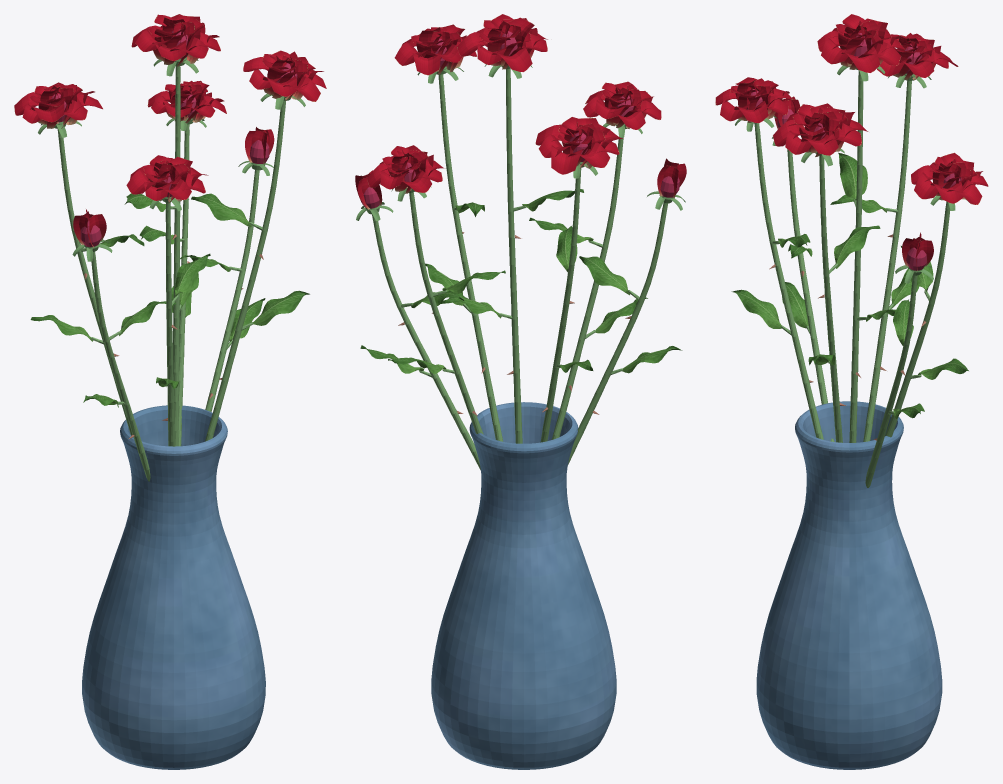
The model's file is rose2.glb.
3 views of the same model, side by side, from view 1: azimuth 30°, elevation 25°; view 2: azimuth 150°, elevation 25°; view 3: azimuth 270°, elevation 25° (orthographic).
Visible parts, largest first — view 1: Vase, Stem3, Stem1, Stem7, Stem4, Stem6, Stem5, Stem2, Leaf5, Leaf6, Leaf8; view 2: Vase, Stem1, Stem3, Stem4, Stem2, Stem6, Stem7, Stem5, Leaf12, Rose2Out0; view 3: Vase, Stem2, Stem1, Stem4, Stem3, Stem5, Stem6, Stem7, Leaf2, Leaf7, Leaf6, Leaf11 (+6 smaller).
Part boxes in pixels (left/top/right/bottom): Vase: left=82, top=405, right=265, bottom=769; Stem3: left=205, top=100, right=285, bottom=441; Stem1: left=173, top=66, right=180, bottom=446; Stem7: left=205, top=170, right=259, bottom=411; Stem4: left=165, top=202, right=174, bottom=446; Stem6: left=91, top=251, right=150, bottom=481; Stem5: left=178, top=124, right=189, bottom=446; Stem2: left=57, top=129, right=132, bottom=435; Leaf5: left=253, top=290, right=309, bottom=325; Leaf6: left=191, top=193, right=251, bottom=227; Leaf8: left=175, top=253, right=210, bottom=296; Vase: left=431, top=402, right=616, bottom=769; Stem1: left=506, top=68, right=522, bottom=443; Stem3: left=438, top=74, right=503, bottom=441; Stem4: left=551, top=137, right=623, bottom=439; Stem2: left=540, top=168, right=581, bottom=442; Stem6: left=568, top=202, right=668, bottom=464; Stem7: left=372, top=214, right=480, bottom=469; Stem5: left=409, top=192, right=483, bottom=434; Leaf12: left=579, top=256, right=630, bottom=295; Rose2Out0: left=551, top=145, right=583, bottom=174; Vase: left=756, top=401, right=942, bottom=769; Stem2: left=863, top=80, right=911, bottom=441; Stem1: left=849, top=70, right=863, bottom=442; Stem4: left=754, top=123, right=823, bottom=439; Stem3: left=819, top=155, right=842, bottom=442; Stem5: left=885, top=201, right=950, bottom=437; Stem6: left=787, top=149, right=834, bottom=441; Stem7: left=865, top=275, right=917, bottom=487; Leaf2: left=838, top=152, right=867, bottom=200; Leaf7: left=731, top=289, right=781, bottom=328; Leaf6: left=834, top=225, right=880, bottom=268; Leaf11: left=782, top=282, right=808, bottom=328.
Bounding box in the file's own units: 0.2657 × 0.6866 × 0.2353.
Materials: 8 (3 with a texture image).
